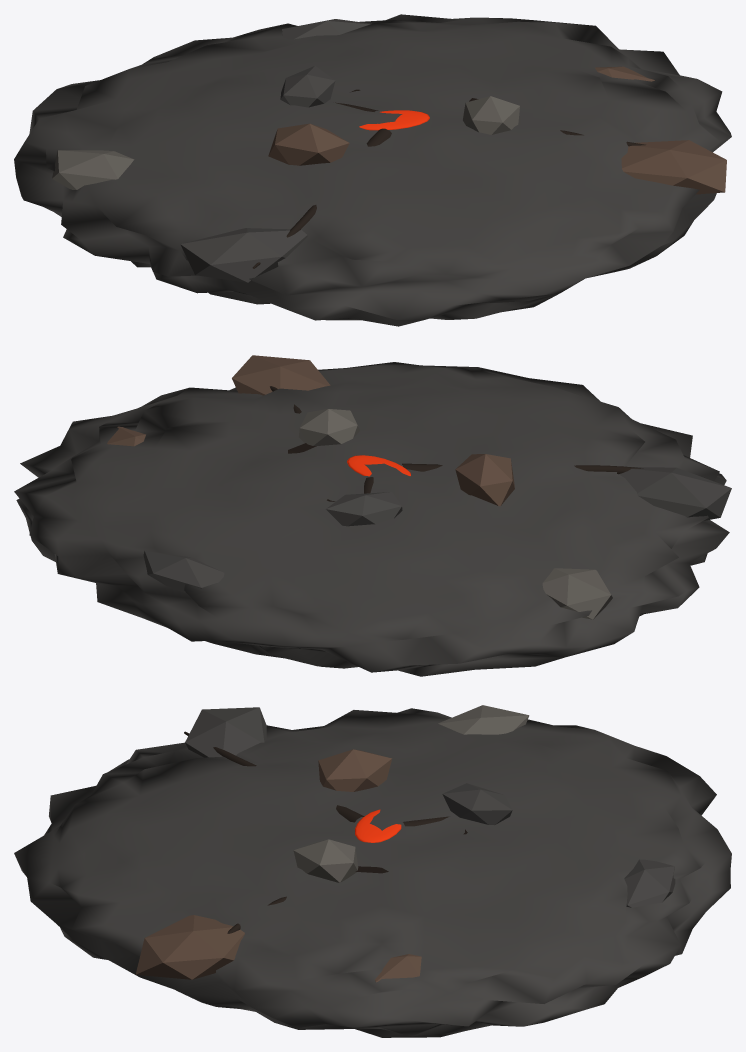
The model's file is geiser_lava.glb.
3 views of the same model, one above another, from view 1: azimuth 30°, elevation 25°; view 2: azimuth 150°, elevation 25°; view 3: azimuth 270°, elevation 25° (orthographic). The views are drawn at different scales.
Visible parts, largest first — view 1: Caverna | Gêiser | basalto carvão, Caverna | Gêiser | basalto oxidado, Caverna | Gêiser | cinza mineral, Caverna | Gêiser | fissura escura, Gêiser | magma baixo no repouso; view 2: Caverna | Gêiser | basalto carvão, Caverna | Gêiser | basalto oxidado, Caverna | Gêiser | cinza mineral, Caverna | Gêiser | fissura escura, Gêiser | magma baixo no repouso; view 3: Caverna | Gêiser | basalto carvão, Caverna | Gêiser | basalto oxidado, Caverna | Gêiser | cinza mineral, Caverna | Gêiser | fissura escura, Gêiser | magma baixo no repouso.
Boxes of the visible parts, <box> form: Caverna | Gêiser | basalto carvão: <box>14,14,731,326</box>; Caverna | Gêiser | basalto oxidado: <box>268,66,726,194</box>; Caverna | Gêiser | cinza mineral: <box>52,96,519,189</box>; Caverna | Gêiser | fissura escura: <box>252,102,645,268</box>; Gêiser | magma baixo no repouso: <box>359,110,429,130</box>; Caverna | Gêiser | basalto carvão: <box>14,362,731,676</box>; Caverna | Gêiser | basalto oxidado: <box>107,355,514,506</box>; Caverna | Gêiser | cinza mineral: <box>298,409,612,619</box>; Caverna | Gêiser | fissura escura: <box>270,386,643,493</box>; Gêiser | magma baixo no repouso: <box>347,455,410,476</box>; Caverna | Gêiser | basalto carvão: <box>14,707,731,1037</box>; Caverna | Gêiser | basalto oxidado: <box>135,749,421,982</box>; Caverna | Gêiser | cinza mineral: <box>293,705,529,882</box>; Caverna | Gêiser | fissura escura: <box>184,731,449,933</box>; Gêiser | magma baixo no repouso: <box>355,809,401,842</box>.
Size of the model in its own units: 0.9191 by 0.167 by 0.8747.
